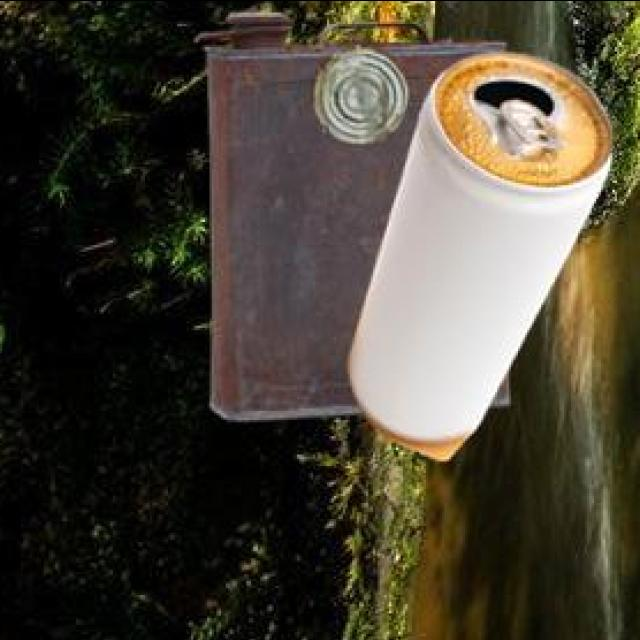logam: (199, 15, 512, 422), (351, 54, 616, 464), (317, 45, 411, 146)
